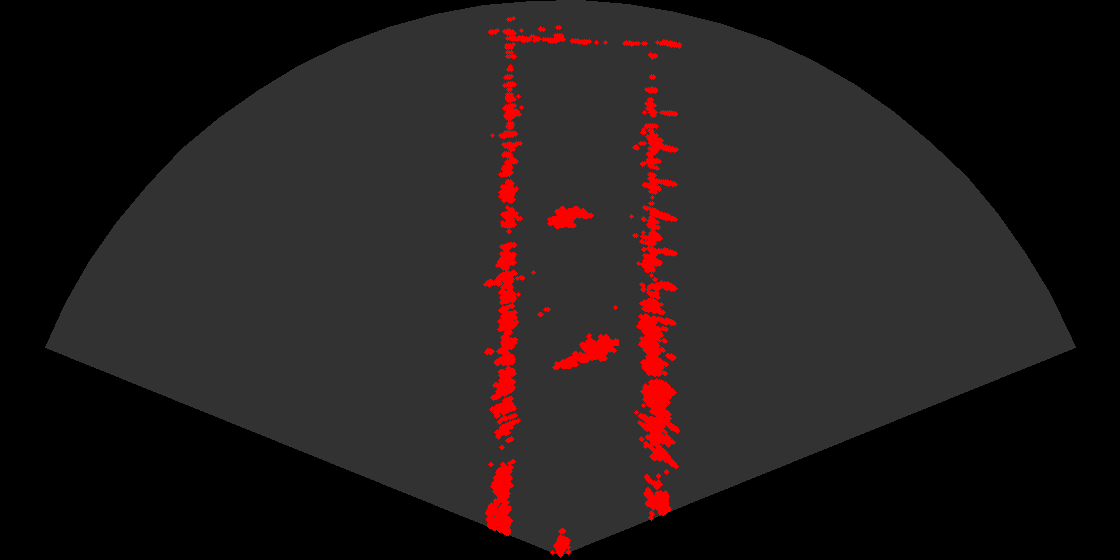AUV: (541, 204, 597, 236)
frogman: (551, 327, 619, 374)
